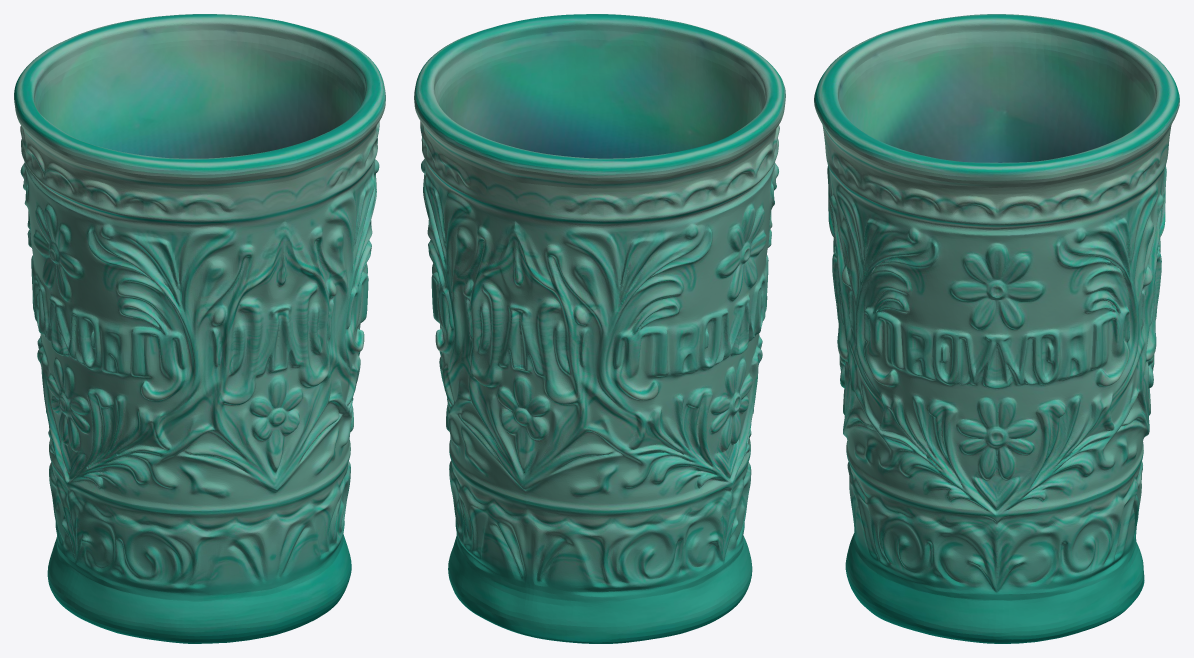
Rendered from firozabadGlass.glb.
3 views of the same model, side by side, from view 1: azimuth 30°, elevation 25°; view 2: azimuth 150°, elevation 25°; view 3: azimuth 270°, elevation 25° (orthographic).
Visible parts, largest first — view 1: tripo_node_f67bb565-c608-44b3-837d-5568f1c6b703; view 2: tripo_node_f67bb565-c608-44b3-837d-5568f1c6b703; view 3: tripo_node_f67bb565-c608-44b3-837d-5568f1c6b703.
Part boxes in pixels (<box>): tripo_node_f67bb565-c608-44b3-837d-5568f1c6b703: <box>14,14,385,643</box>; tripo_node_f67bb565-c608-44b3-837d-5568f1c6b703: <box>414,14,785,643</box>; tripo_node_f67bb565-c608-44b3-837d-5568f1c6b703: <box>814,14,1179,643</box>.
Bounding box in the file's own units: 0.6841 × 1 × 0.6717.
Materials: 1 (1 with a texture image).
